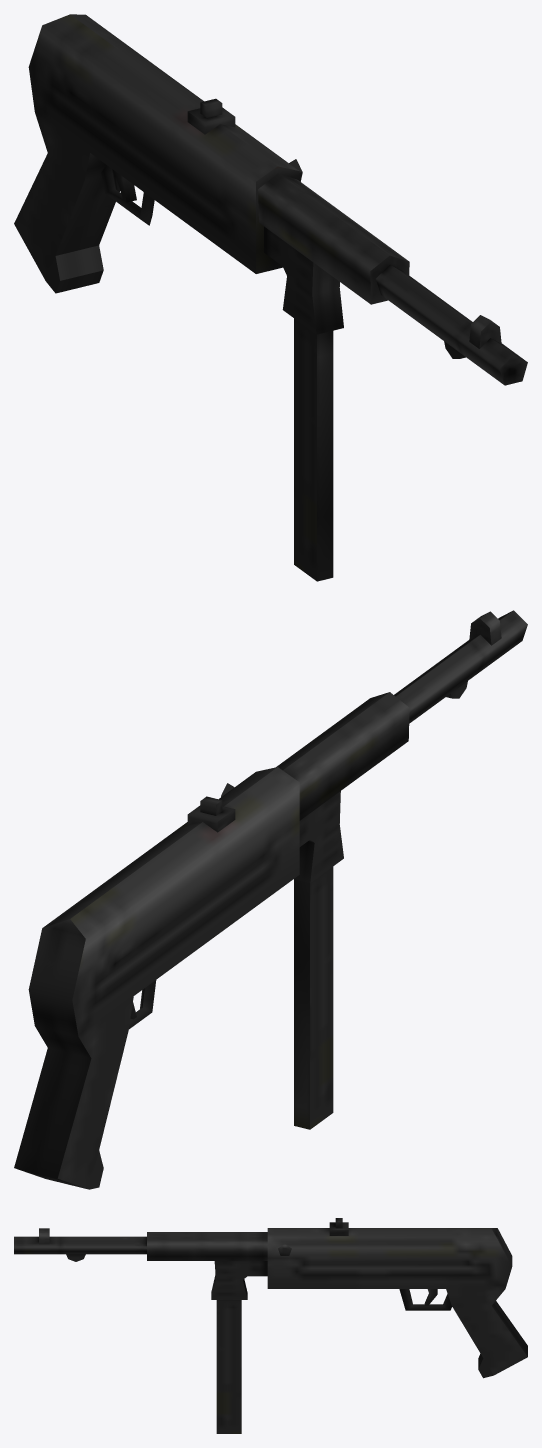
Rendered from MachineGun.obj.
The picture shows the model from 3 angles, top to bottom: view 1: azimuth 30°, elevation 25°; view 2: azimuth 150°, elevation 25°; view 3: azimuth 270°, elevation 25°; orthographic projection. The views are drawn at different scales.
Visible parts, largest first — view 1: Mesh_5089.rip.006; view 2: Mesh_5089.rip.006; view 3: Mesh_5089.rip.006.
Part boxes in pixels (x1,y1,x2,y2): Mesh_5089.rip.006: (14, 14, 527, 581); Mesh_5089.rip.006: (14, 610, 527, 1189); Mesh_5089.rip.006: (14, 1218, 527, 1433).
Bounding box in the file's own units: 0.0597 × 0.3742 × 0.8236.
Materials: 1 (1 with a texture image).
